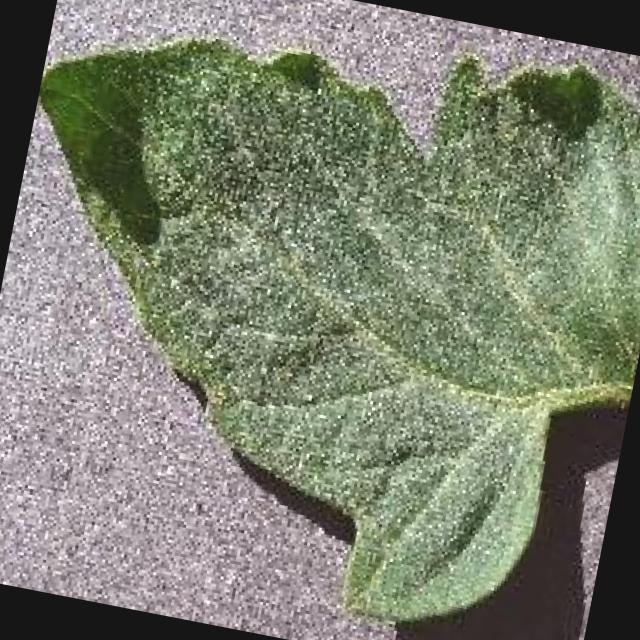healthy: (36, 38, 640, 628)
